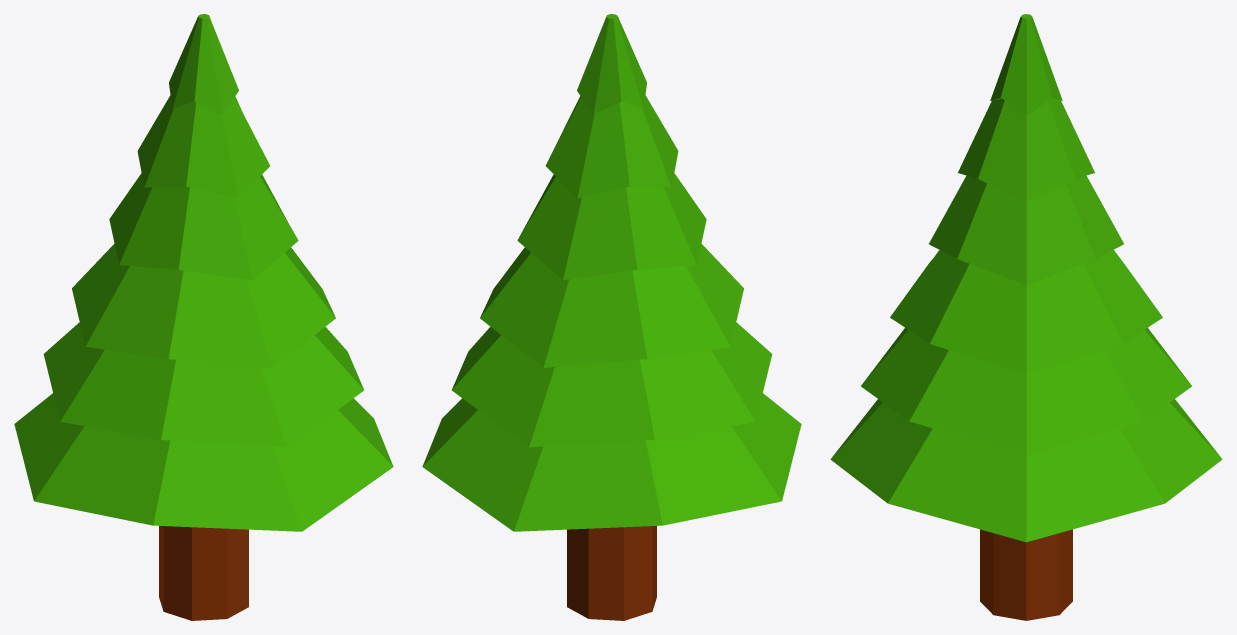
File: pino.fbx
3 renders of one model, left to right at view 1: azimuth 30°, elevation 25°; view 2: azimuth 150°, elevation 25°; view 3: azimuth 270°, elevation 25°, orthographic.
Parts seen in each view (by area): view 1: arbole.010; view 2: arbole.010; view 3: arbole.010.
Part boxes in pixels (x1,y1,x2,y2): arbole.010: [14, 14, 393, 620]; arbole.010: [422, 14, 801, 620]; arbole.010: [830, 14, 1222, 620].
Size of the model in its own units: 407 by 670 by 407.
